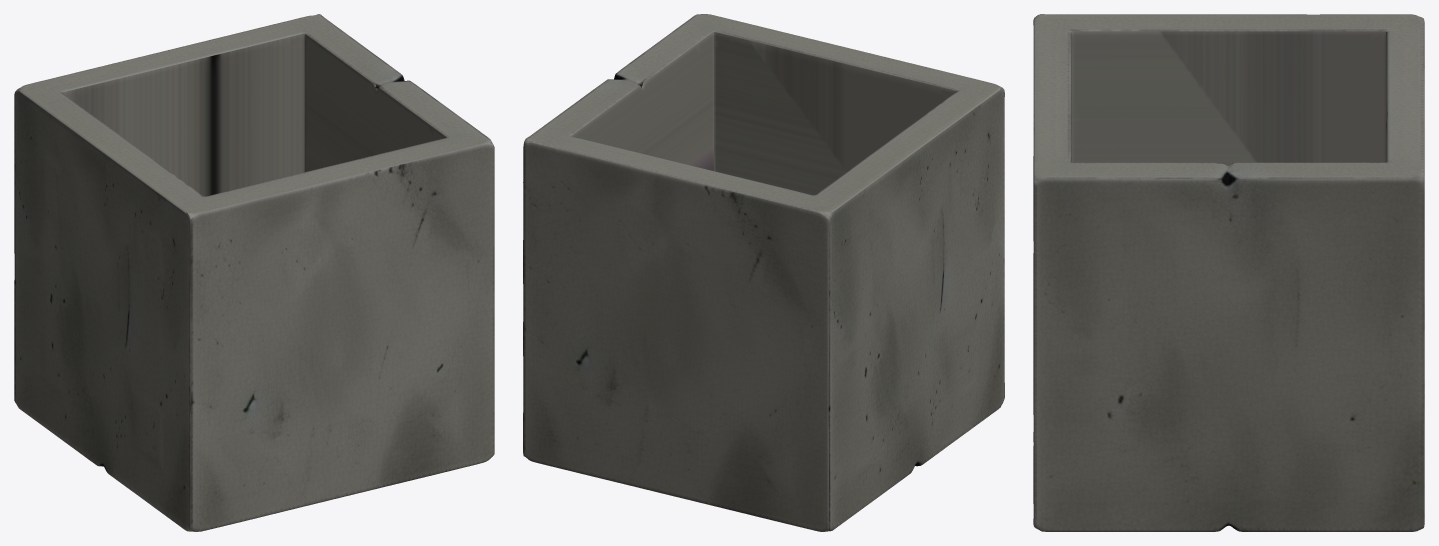
File: street-planter.glb
The picture shows the model from 3 angles, left to right: view 1: azimuth 30°, elevation 25°; view 2: azimuth 150°, elevation 25°; view 3: azimuth 270°, elevation 25°; orthographic projection. The views are drawn at different scales.
Visible parts, largest first — view 1: tmpfx7uzh61.ply; view 2: tmpfx7uzh61.ply; view 3: tmpfx7uzh61.ply.
Boxes of the visible parts, <box> form: tmpfx7uzh61.ply: <box>14,14,494,531</box>; tmpfx7uzh61.ply: <box>523,14,1004,531</box>; tmpfx7uzh61.ply: <box>1033,14,1424,531</box>.
Bounding box in the file's own units: 1 × 1 × 1.
Materials: 1 (1 with a texture image).
